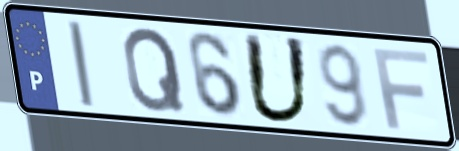6: (185, 29, 246, 121)
9: (315, 41, 371, 130)
F: (369, 46, 432, 133)
I: (63, 18, 98, 109)
Q: (121, 24, 189, 115)
U: (240, 30, 314, 128)
